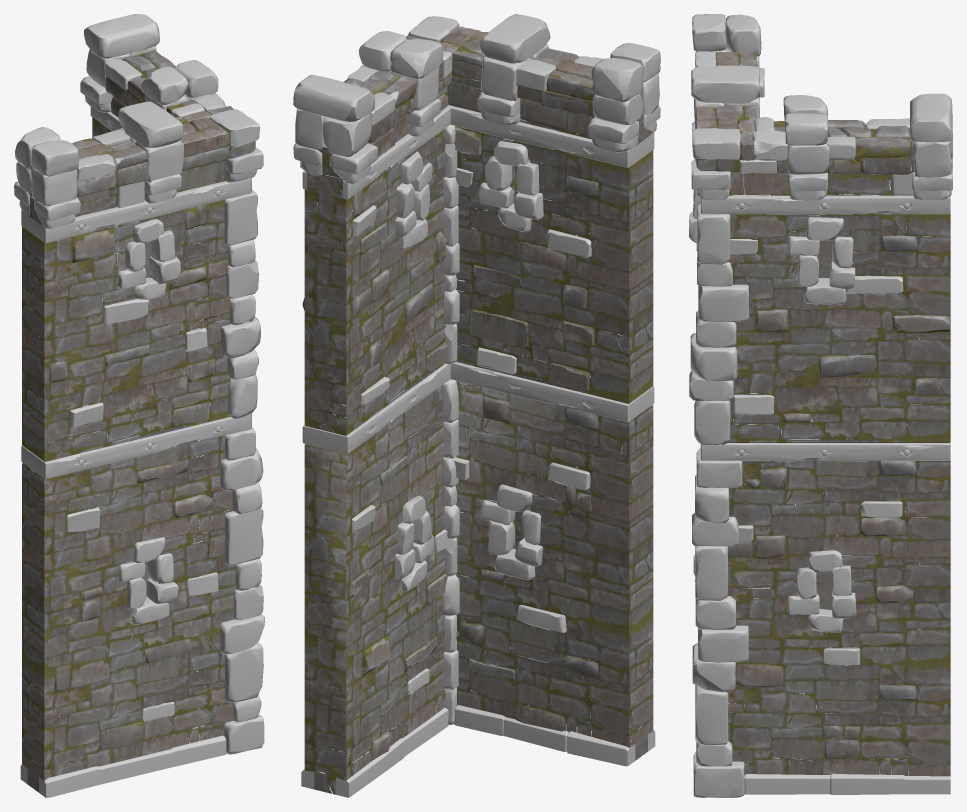
3 views of the same model, side by side, from view 1: azimuth 30°, elevation 25°; view 2: azimuth 150°, elevation 25°; view 3: azimuth 270°, elevation 25° (orthographic). The views are drawn at different scales.
Parts seen in each view (by area): view 1: SM_Castle_Wall_Corner_4x12_01_v1_LOD0; view 2: SM_Castle_Wall_Corner_4x12_01_v1_LOD0; view 3: SM_Castle_Wall_Corner_4x12_01_v1_LOD0.
Part boxes in pixels (x1,y1,x2,y2): SM_Castle_Wall_Corner_4x12_01_v1_LOD0: [14, 14, 264, 797]; SM_Castle_Wall_Corner_4x12_01_v1_LOD0: [293, 14, 660, 797]; SM_Castle_Wall_Corner_4x12_01_v1_LOD0: [689, 14, 952, 797].
Bounding box in the file's own units: 4.32 × 12.09 × 4.27.
